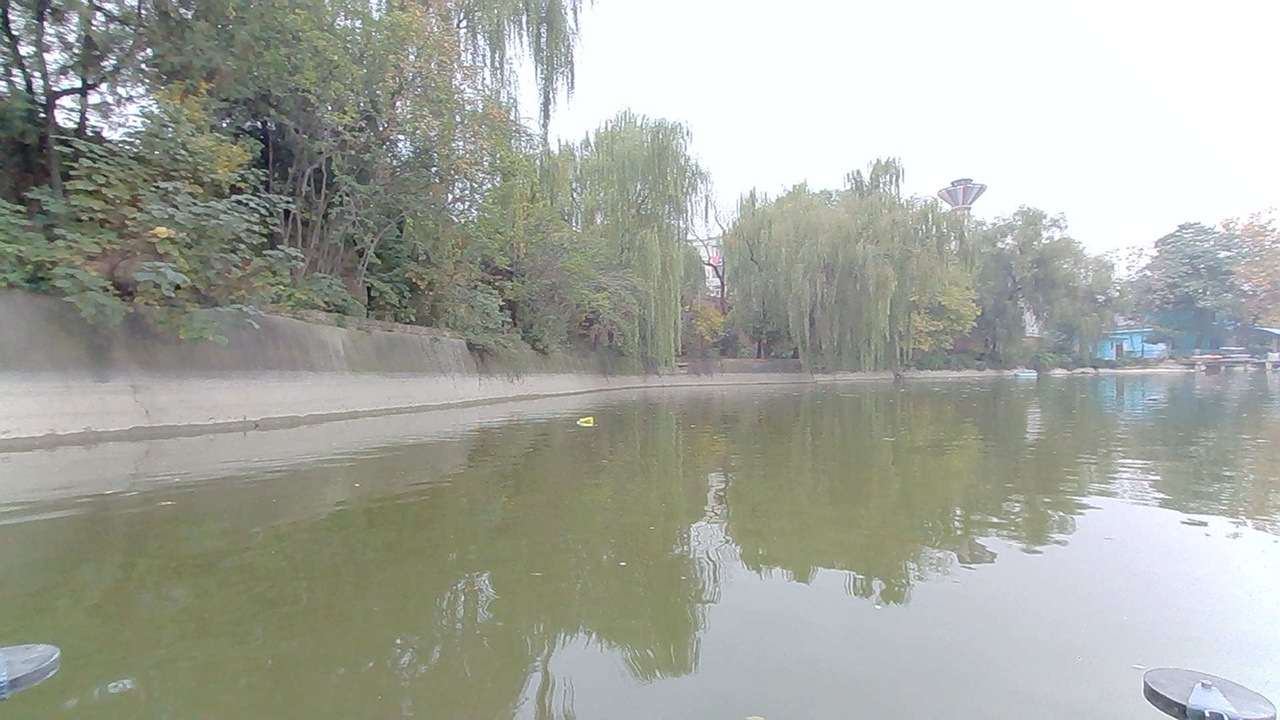bottle: (571, 411, 605, 434), (1137, 389, 1166, 409)
